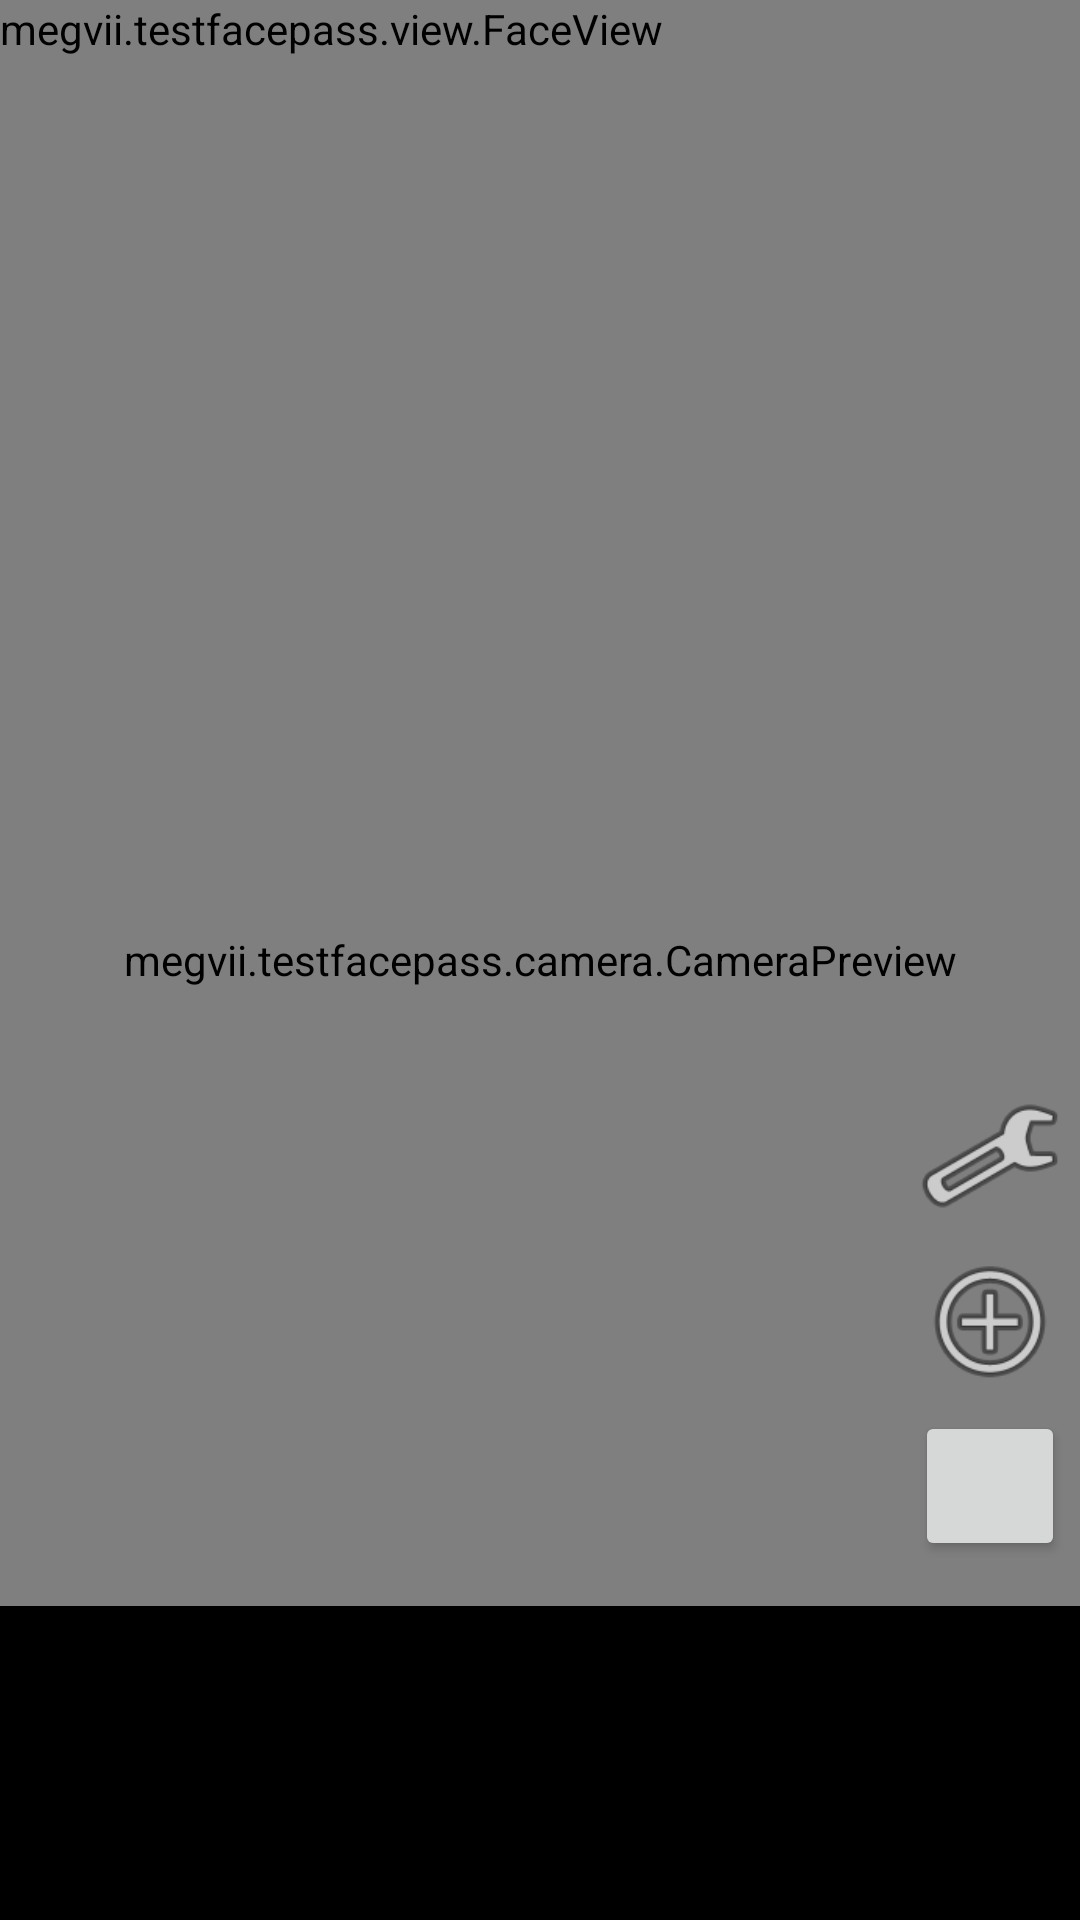

Named icons in this screenshot (1080w x 1920h) and their centers, (x,y):
add: (990,1321)
manage: (990,1156)
